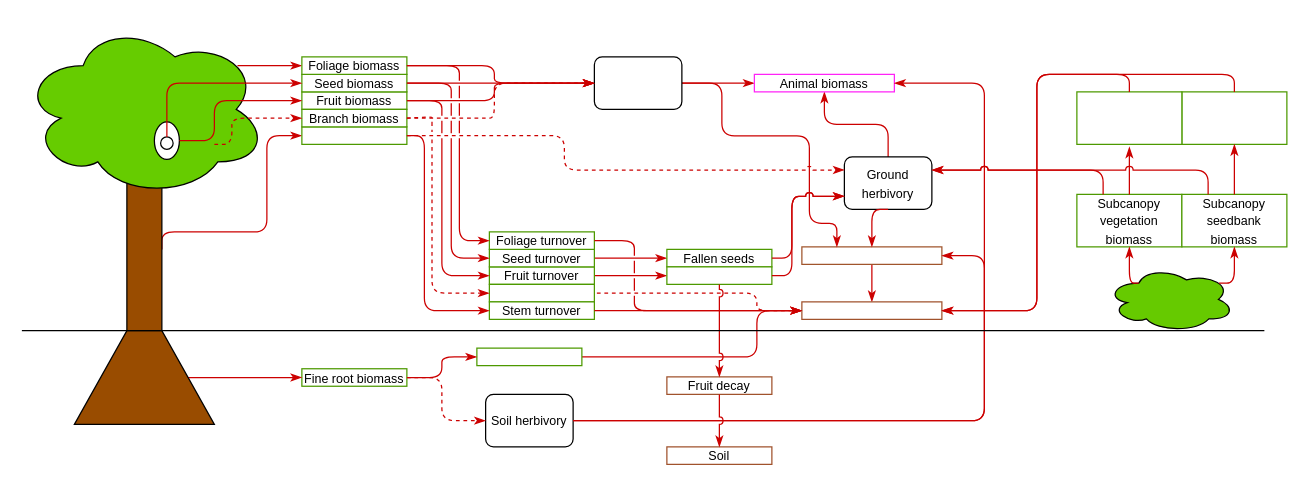
This 1309x486 diagram has some shape labels left out. Each missing label, with the box of its shape:
Branch turnover: (488, 283, 594, 302)
Canopy herbivory: (593, 56, 682, 109)
Fallen fruit: (666, 266, 772, 284)
Fine root turnover: (476, 347, 582, 366)
Herbivory waste: (801, 246, 942, 264)
Litter: (801, 301, 942, 319)
Stem biomass: (301, 126, 407, 144)
Subcanopy seedbank turnover: (1181, 91, 1287, 144)
Subcanopy vegetation turnover: (1076, 91, 1182, 144)
